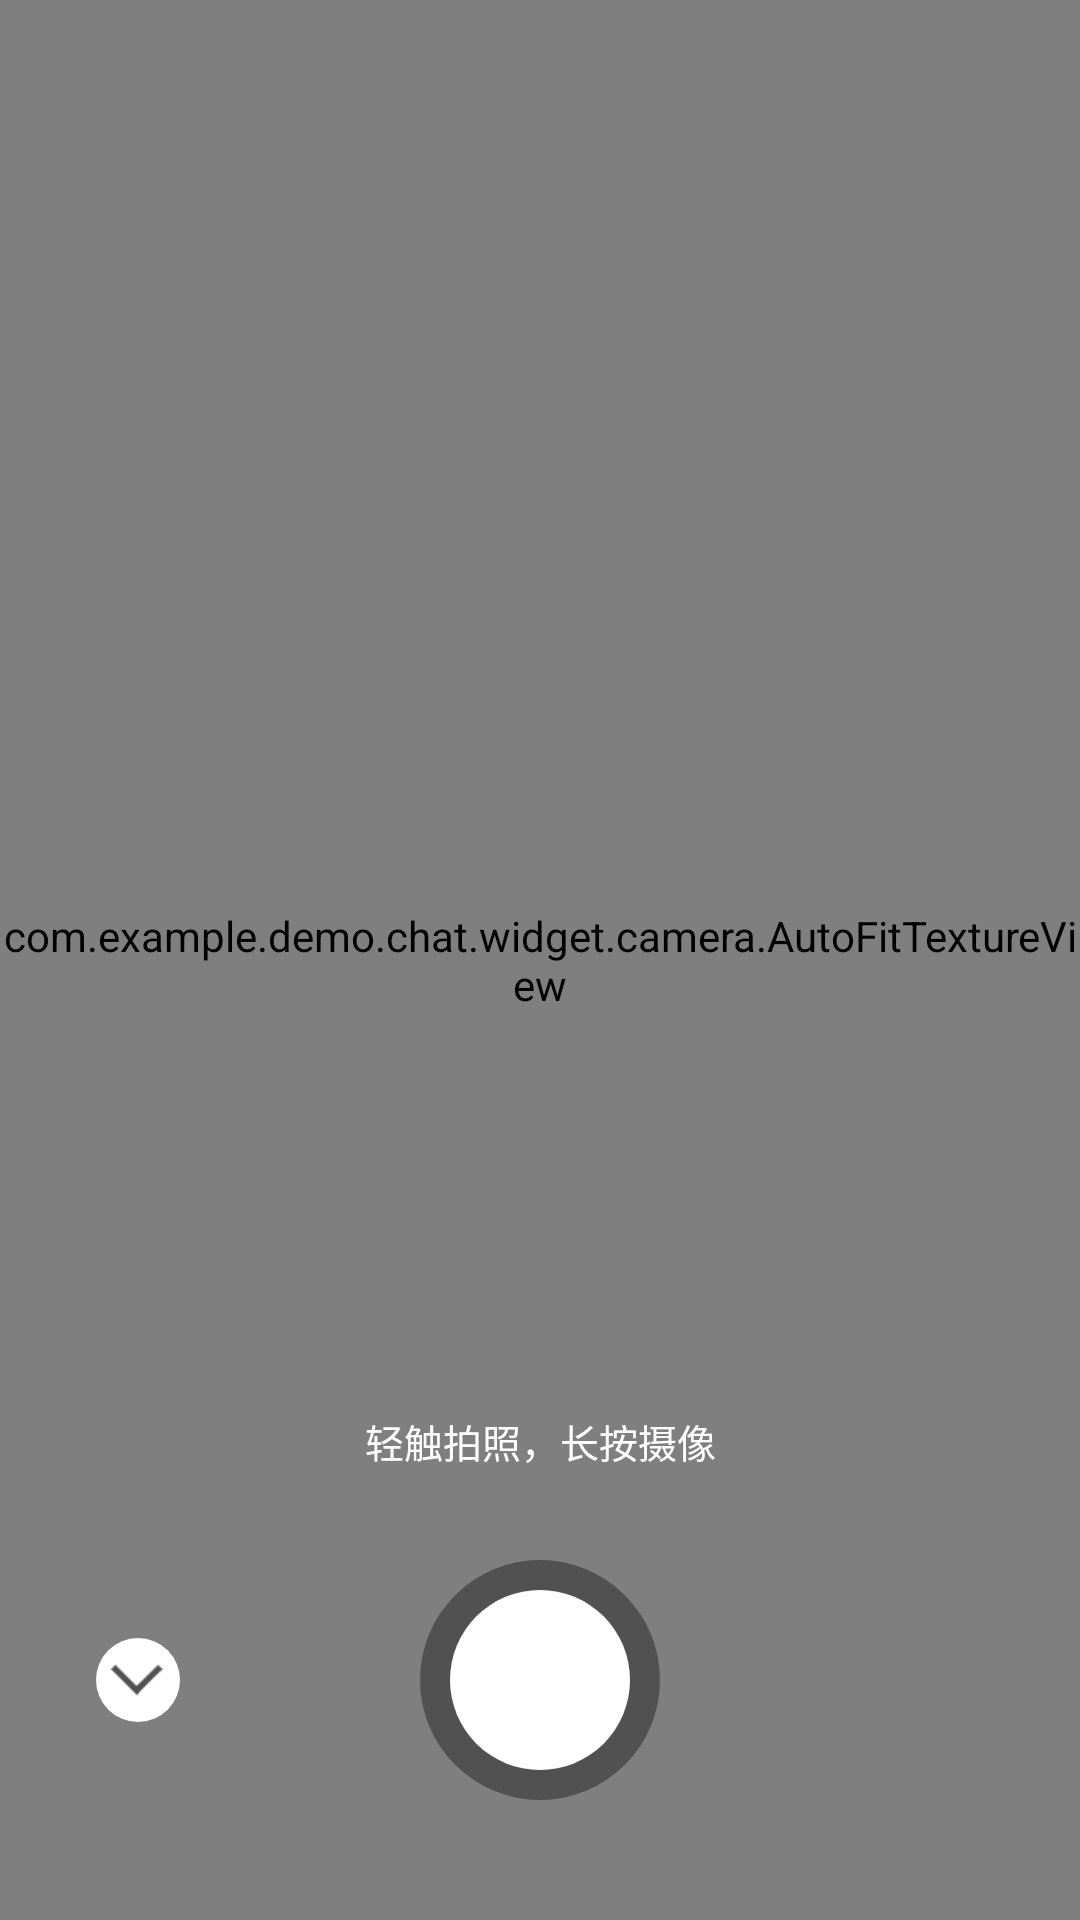

Screen size 1080px×1920px. Icon name, then its center in pixels as (x=x, y=y):
camera close: (x=138, y=1680)
